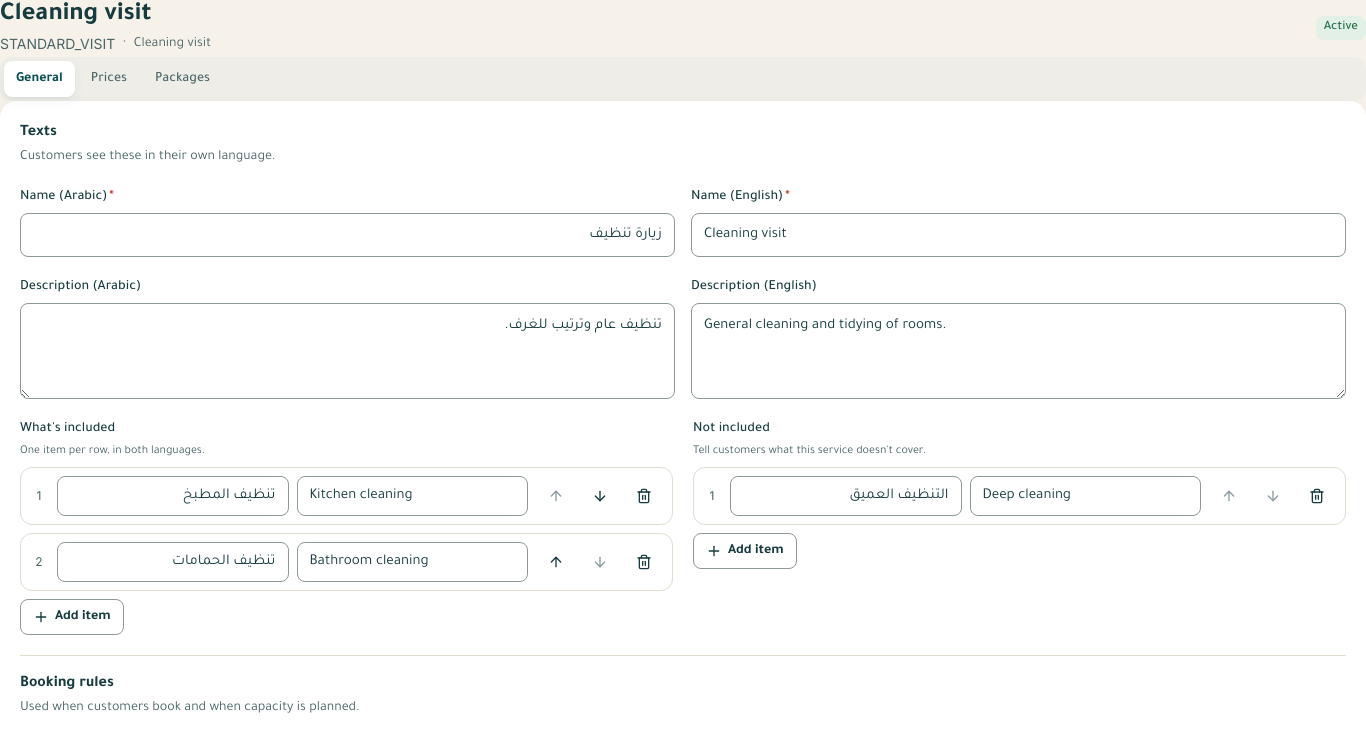
it: A11 service page › previews the unsaved General values side by side in Arabic and English, without saving
Replace the text in the field labelled "Name (English)*" with "Cleaning visit (4 hours)": (1018, 235) [691,213,1346,257]
(page scrolled)
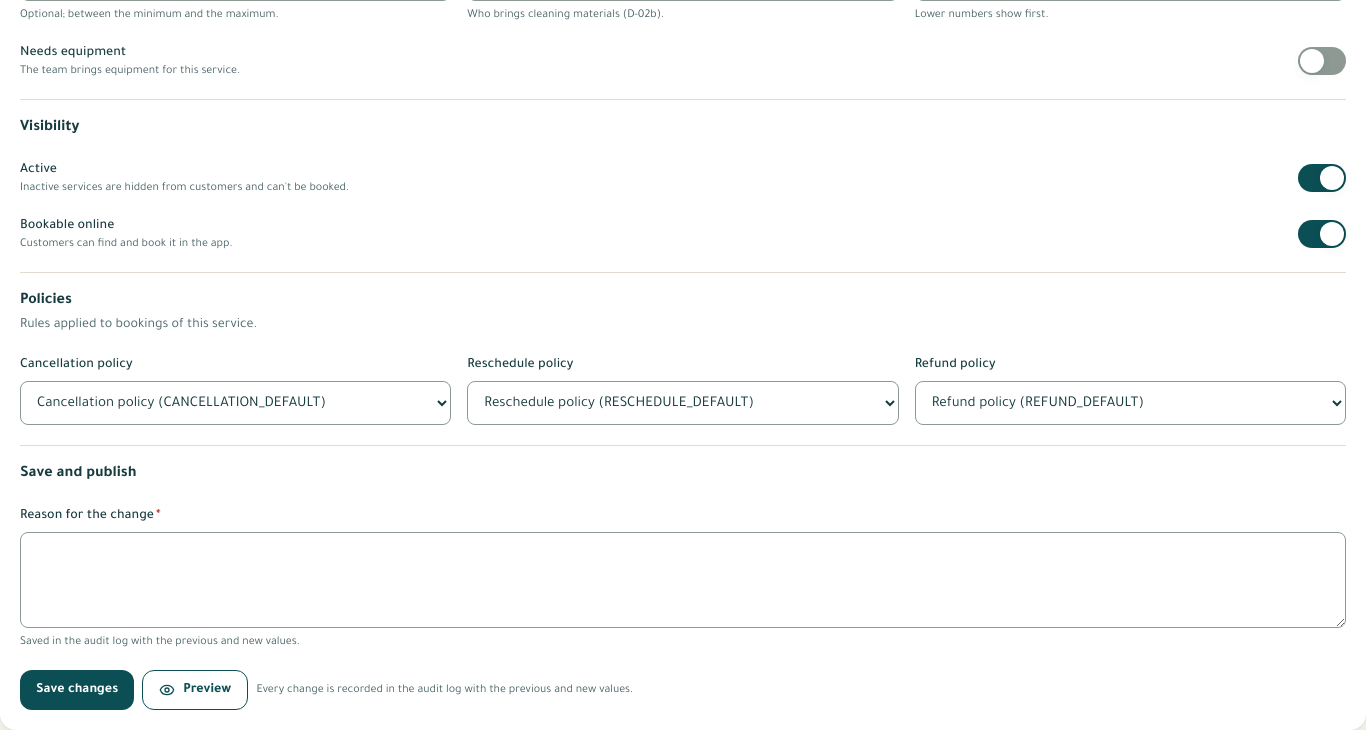
Click the button "Preview": (195, 690) [142,670,248,710]
(page scrolled)
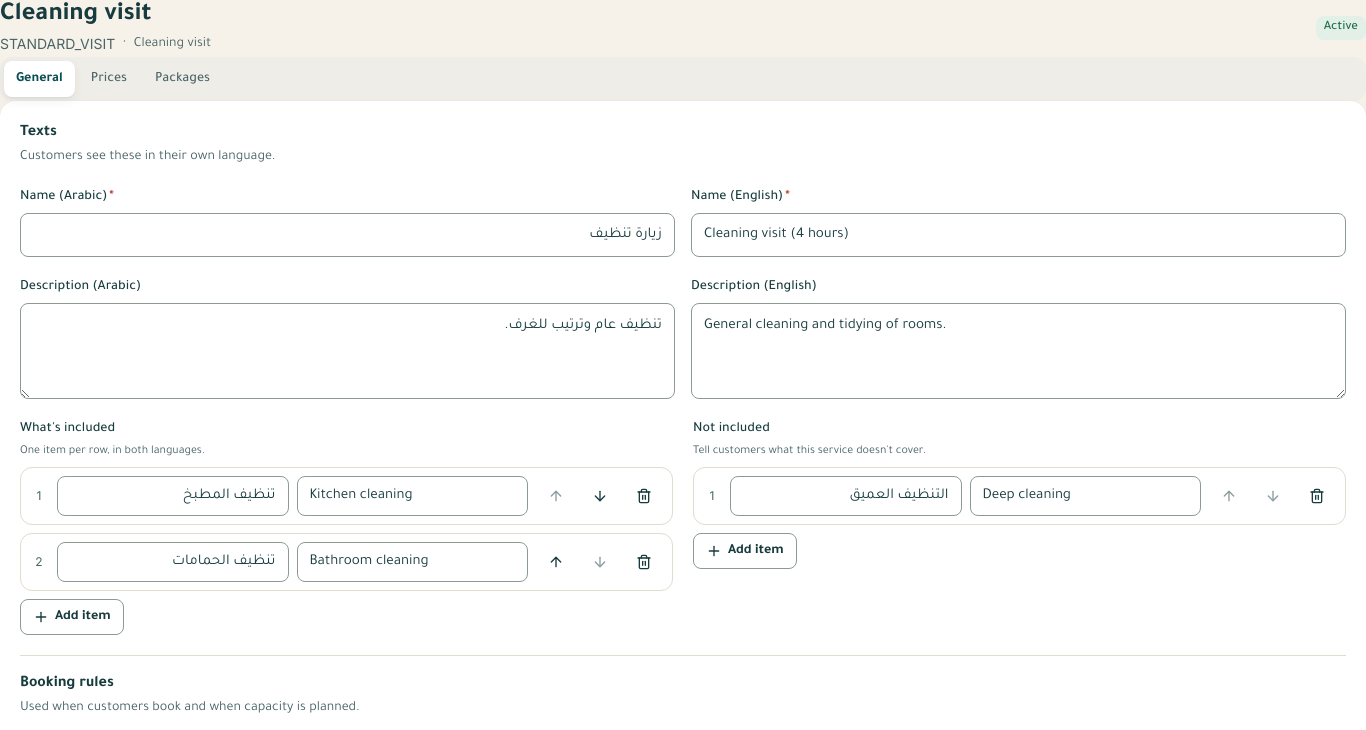
Expected: the text "STANDARD_VISIT" is shown, [0,34,115,54]
Editing after the preview marks it as outdated.
In the field labelled "Name (English)*": (1018, 235) [691,213,1346,257], type "!"
(page scrolled)
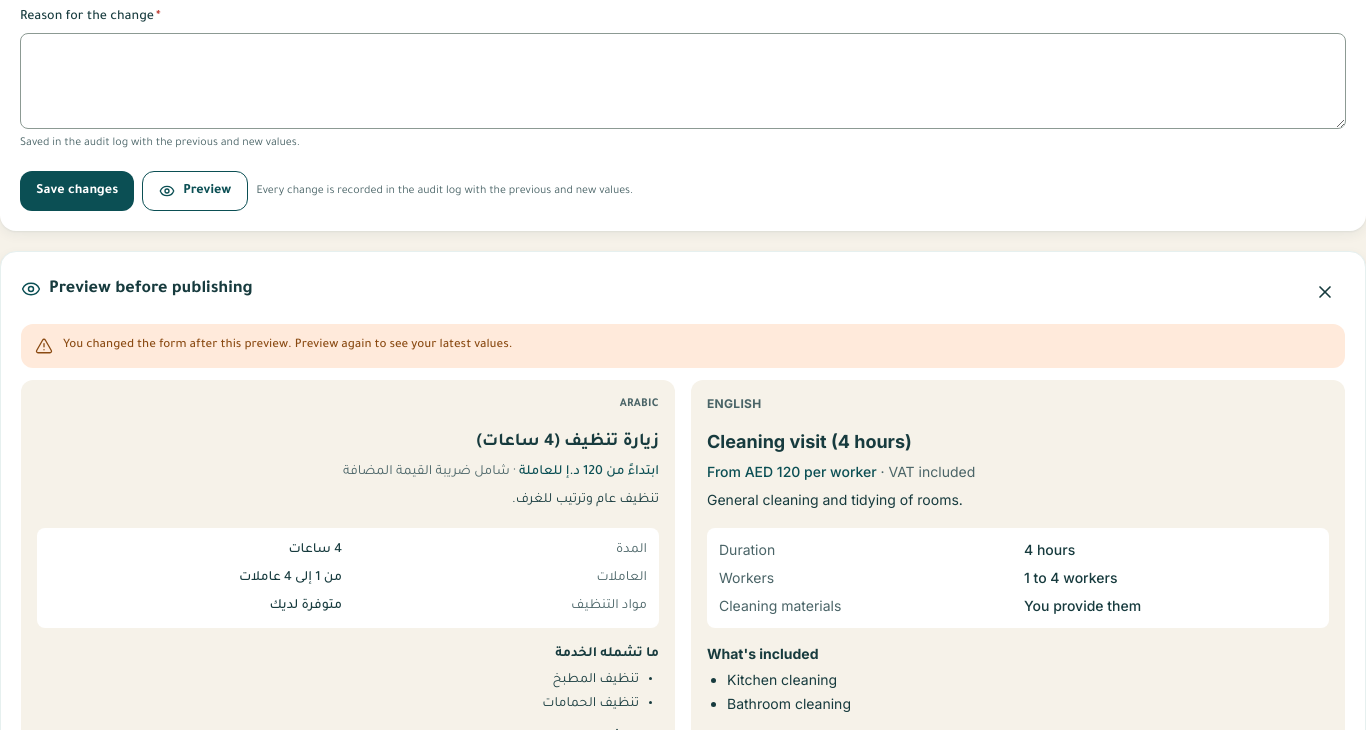
Result: the text "You changed the form after this preview" is shown at [63,339,512,352]
